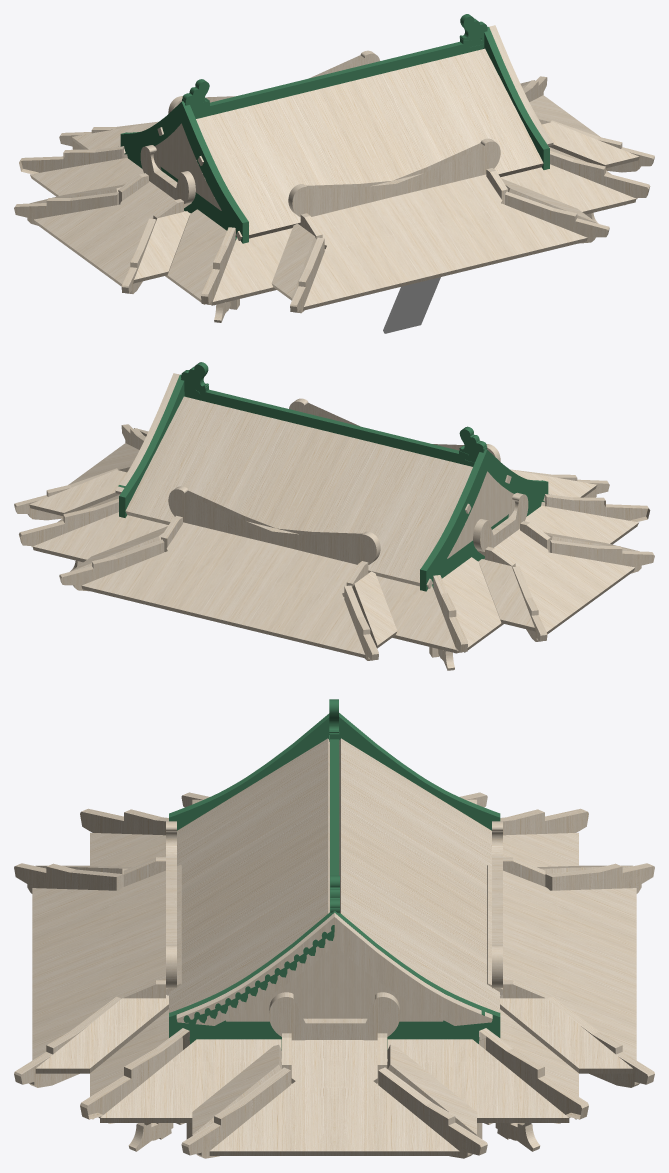
The picture shows the model from 3 angles, top to bottom: view 1: azimuth 30°, elevation 25°; view 2: azimuth 150°, elevation 25°; view 3: azimuth 270°, elevation 25°; orthographic projection. The views are drawn at different scales.
Visible parts, largest first — view 1: Mesh29 ___428_3 ___547_2 Model, Mesh30 ___428_4 ___547_2 Model, Mesh50 ___459_3 ___548_3 Model, Mesh44 ___459_2 ___548_2 Model, Mesh45 ___453_2 ___548_2 Model, Mesh81 ___466_4 ___543_2 Model, Mesh51 ___453_3 ___548_3 Model, Mesh78 ___453_6 ___543_2 Model, Mesh33 __2_dwg_1_3 ___381_3 ___484_2 Model, Mesh75 ___466_3 ___543_2 Model, Mesh54 ___437_3 ___548_3 Model, Mesh48 ___437_2 ___548_2 Model (+29 smaller); view 2: Mesh17 ___428_1 ___547_1 Model, Mesh18 ___428_2 ___547_1 Model, Mesh20 ___459_1 ___548_1 Model, Mesh91 ___459_4 ___548_4 Model, Mesh92 ___453_8 ___548_4 Model, Mesh75 ___466_3 ___543_2 Model, Mesh21 ___453_1 ___548_1 Model, Mesh84 ___453_7 ___543_2 Model, Mesh38 __2_dwg_1_4 ___381_4 ___484_2 Model, Mesh81 ___466_4 ___543_2 Model, Mesh24 ___437_1 ___548_1 Model, Mesh95 ___437_4 ___548_4 Model (+28 smaller); view 3: Mesh30 ___428_4 ___547_2 Model, Mesh18 ___428_2 ___547_1 Model, Mesh29 ___428_3 ___547_2 Model, Mesh17 ___428_1 ___547_1 Model, Mesh44 ___459_2 ___548_2 Model, Mesh91 ___459_4 ___548_4 Model, Mesh69 ___466_2 ___543_1 Model, Mesh63 ___466_1 ___543_1 Model, Mesh20 ___459_1 ___548_1 Model, Mesh50 ___459_3 ___548_3 Model, Mesh66 ___453_4 ___543_1 Model, Mesh72 ___453_5 ___543_1 Model (+38 smaller).
Part boxes in pixels (x1,y1,x2,y2): Mesh29 ___428_3 ___547_2 Model: (337,48,543,181); Mesh30 ___428_4 ___547_2 Model: (196,85,385,240); Mesh50 ___459_3 ___548_3 Model: (395,175,587,275); Mesh44 ___459_2 ___548_2 Model: (303,196,445,310); Mesh45 ___453_2 ___548_2 Model: (211,228,292,305); Mesh81 ___466_4 ___543_2 Model: (34,182,165,256); Mesh51 ___453_3 ___548_3 Model: (500,164,636,214); Mesh78 ___453_6 ___543_2 Model: (165,209,226,304); Mesh33 __2_dwg_1_3 ___381_3 ___484_2 Model: (181,101,248,243); Mesh75 ___466_3 ___543_2 Model: (79,193,191,286); Mesh54 ___437_3 ___548_3 Model: (393,138,500,195); Mesh48 ___437_2 ___548_2 Model: (288,180,396,216); Mesh17 ___428_1 ___547_1 Model: (125,396,331,528); Mesh18 ___428_2 ___547_1 Model: (283,432,472,588); Mesh20 ___459_1 ___548_1 Model: (81,522,273,623); Mesh91 ___459_4 ___548_4 Model: (223,544,366,658); Mesh92 ___453_8 ___548_4 Model: (376,576,457,653); Mesh75 ___466_3 ___543_2 Model: (503,529,635,604); Mesh21 ___453_1 ___548_1 Model: (32,512,168,562); Mesh84 ___453_7 ___543_2 Model: (442,557,503,652); Mesh38 __2_dwg_1_4 ___381_4 ___484_2 Model: (420,449,487,591); Mesh81 ___466_4 ___543_2 Model: (477,541,589,634); Mesh24 ___437_1 ___548_1 Model: (168,486,276,543); Mesh95 ___437_4 ___548_4 Model: (272,528,380,564); Mesh30 ___428_4 ___547_2 Model: (177,738,329,924); Mesh18 ___428_2 ___547_1 Model: (339,738,491,924); Mesh29 ___428_3 ___547_2 Model: (169,835,329,1012); Mesh17 ___428_1 ___547_1 Model: (339,835,499,1012); Mesh44 ___459_2 ___548_2 Model: (32,865,181,981); Mesh91 ___459_4 ___548_4 Model: (487,865,636,981); Mesh69 ___466_2 ___543_1 Model: (334,1040,459,1155); Mesh63 ___466_1 ___543_1 Model: (209,1040,334,1155); Mesh20 ___459_1 ___548_1 Model: (487,924,636,1060); Mesh50 ___459_3 ___548_3 Model: (32,924,181,1060); Mesh66 ___453_4 ___543_1 Model: (100,1039,281,1122); Mesh72 ___453_5 ___543_1 Model: (387,1039,569,1122).
Size of the model in its own units: 167 by 63 by 128.
4 materials, 2 textured.
